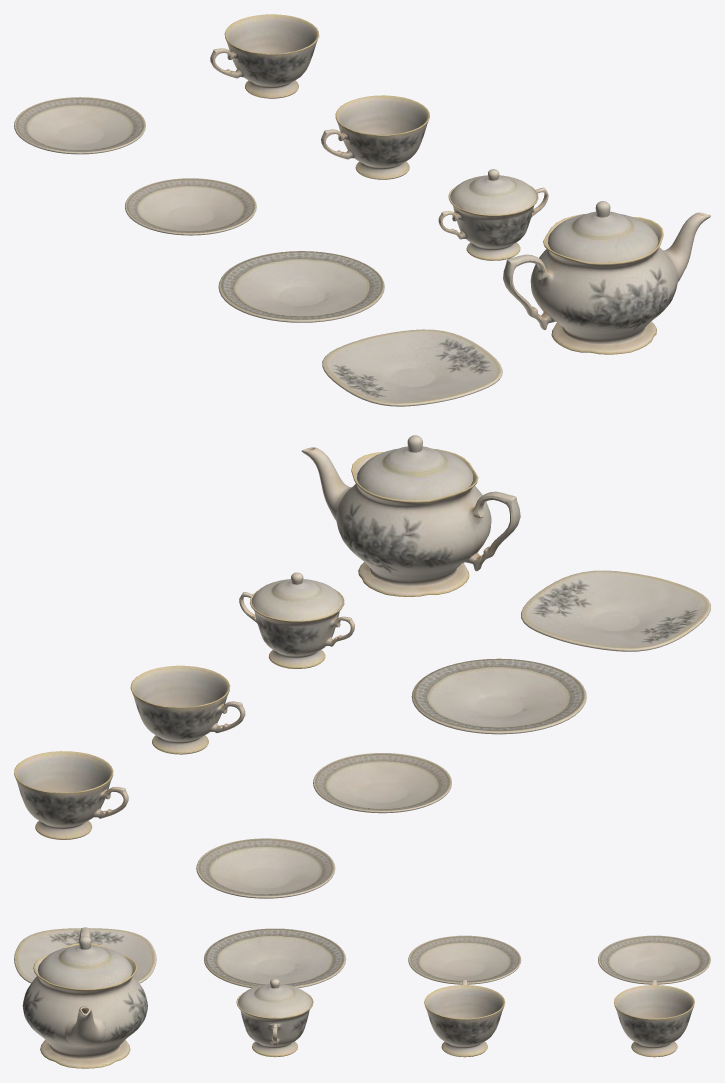
File: tea-service.glb
3 renders of one model, top to bottom at view 1: azimuth 30°, elevation 25°; view 2: azimuth 150°, elevation 25°; view 3: azimuth 270°, elevation 25°, orthographic. The views are drawn at different scales.
Parts seen in each view (by area): view 1: tea-service; view 2: tea-service; view 3: tea-service.
Part boxes in pixels (left/top/right/bottom): tea-service: left=14, top=14, right=710, bottom=406; tea-service: left=14, top=435, right=710, bottom=898; tea-service: left=14, top=927, right=710, bottom=1068.
Size of the model in its own units: 0.2177 by 0.0743 by 0.4133.
Materials: 1 (1 with a texture image).
